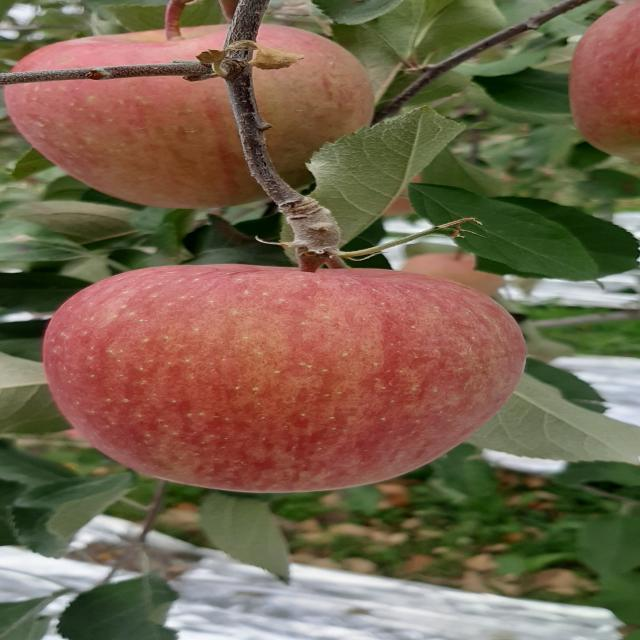fresh: (36, 259, 537, 504)
